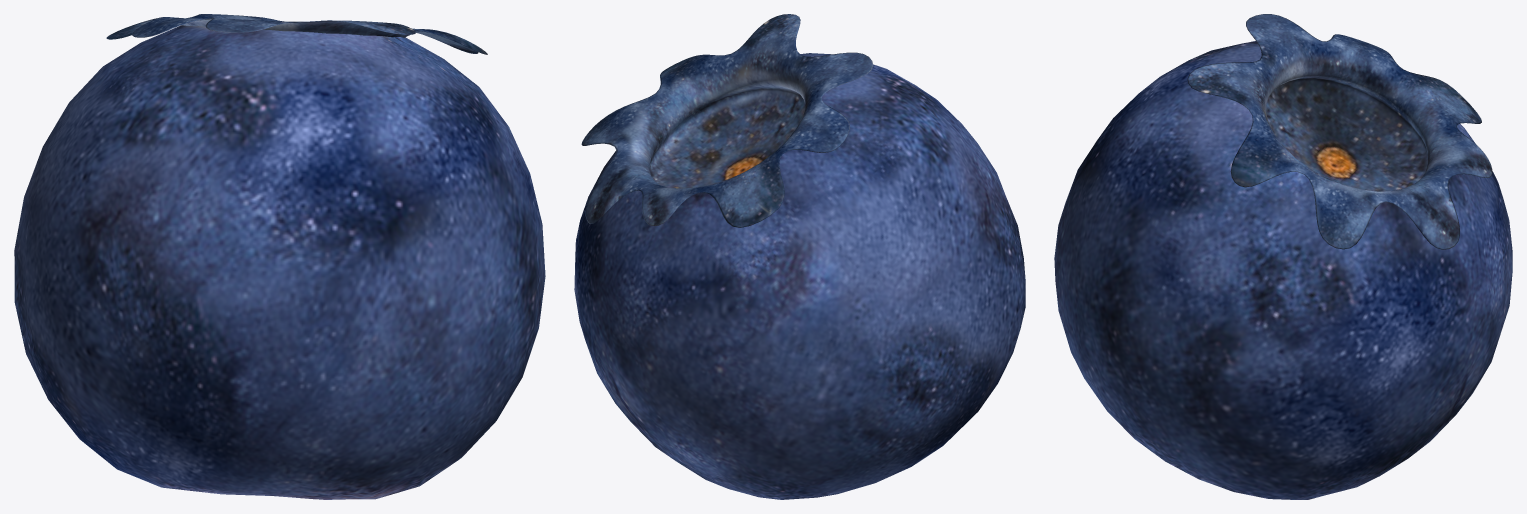
The model's file is blueberry.glb.
The picture shows the model from 3 angles, left to right: view 1: azimuth 30°, elevation 25°; view 2: azimuth 150°, elevation 25°; view 3: azimuth 270°, elevation 25°; orthographic projection. The views are drawn at different scales.
Parts seen in each view (by area): view 1: blueberry.002; view 2: blueberry.002; view 3: blueberry.002.
Part boxes in pixels (x1,y1,x2,y2): blueberry.002: [14, 14, 545, 499]; blueberry.002: [574, 14, 1025, 499]; blueberry.002: [1054, 14, 1512, 499].
Size of the model in its own units: 0.0093 by 0.00955 by 0.00933.
1 material, 1 textured.
